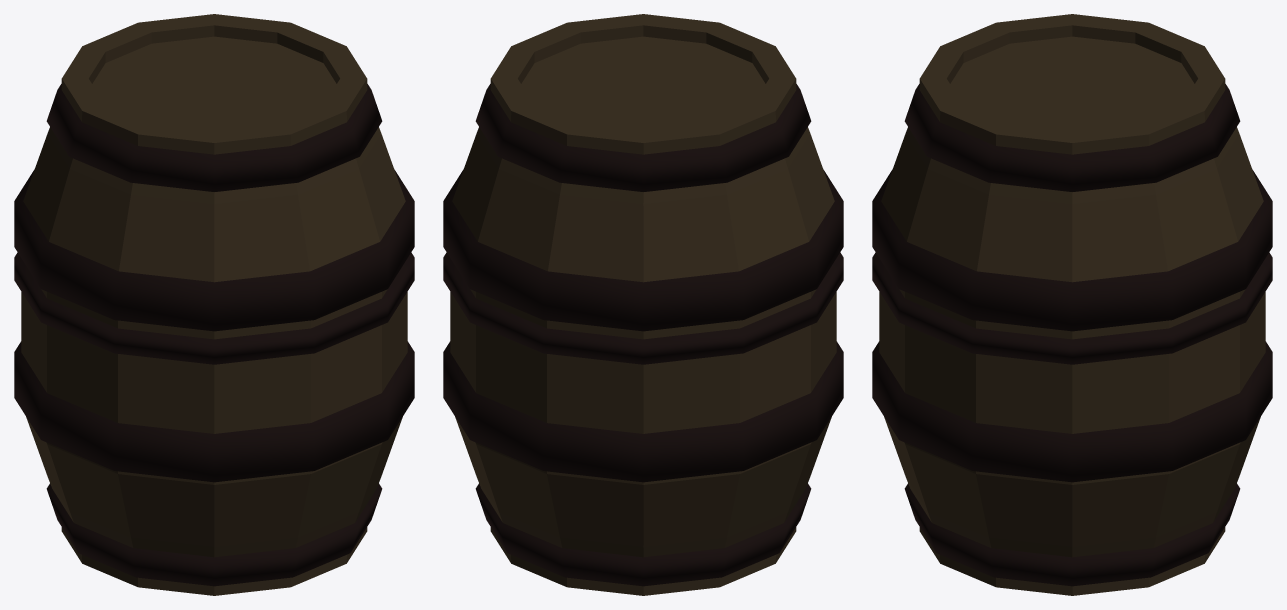
The model's file is Barrel.fbx.
3 views of the same model, side by side, from view 1: azimuth 30°, elevation 25°; view 2: azimuth 150°, elevation 25°; view 3: azimuth 270°, elevation 25° (orthographic).
Parts seen in each view (by area): view 1: Barrel; view 2: Barrel; view 3: Barrel.
Part boxes in pixels (x1,y1,x2,y2): Barrel: [14, 14, 414, 595]; Barrel: [443, 14, 843, 595]; Barrel: [872, 14, 1272, 595].
Size of the model in its own units: 2.4 by 2.99 by 2.4.
